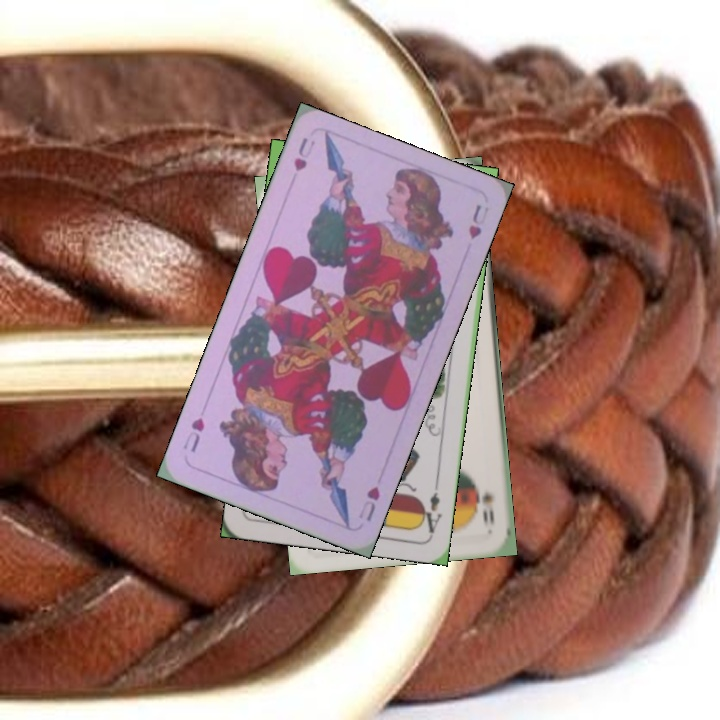EA: (416, 478, 445, 536)
HU: (354, 482, 383, 524), (289, 133, 318, 174)
SO: (478, 488, 497, 528)
